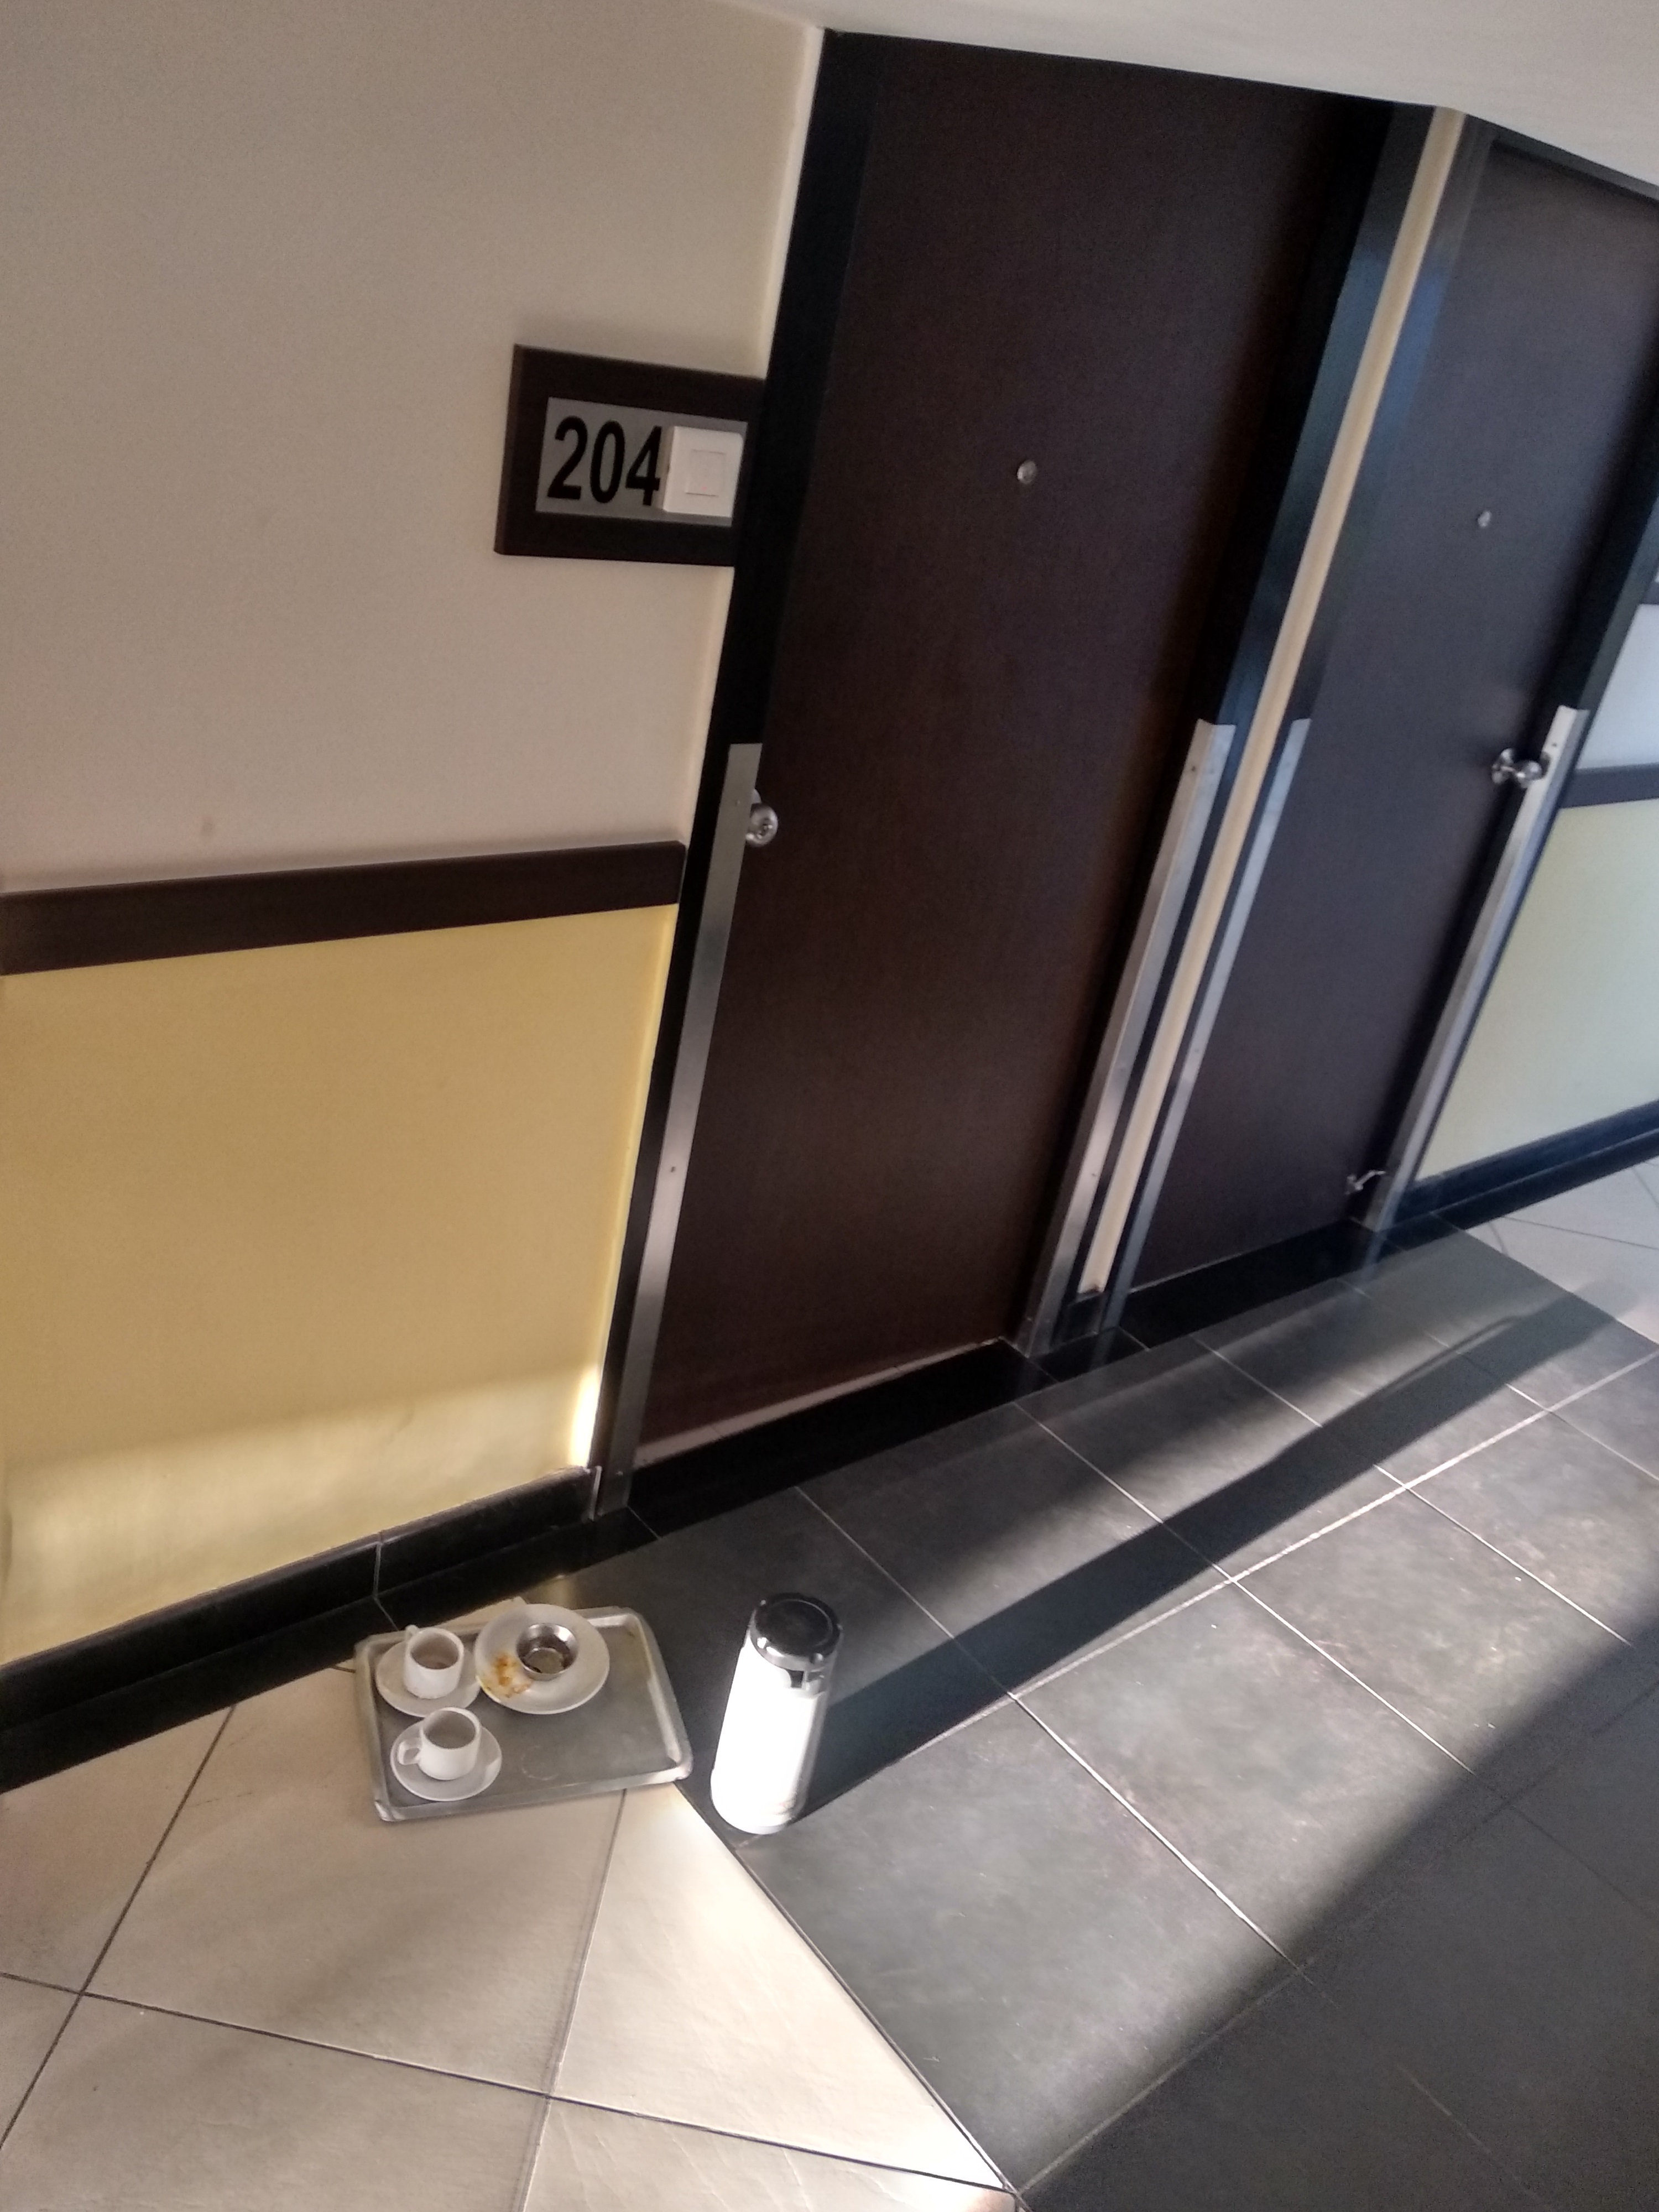CUP: (396, 1707, 486, 1784), (399, 1623, 467, 1700), (512, 1622, 580, 1684)
JUG: (716, 1594, 838, 1831)
